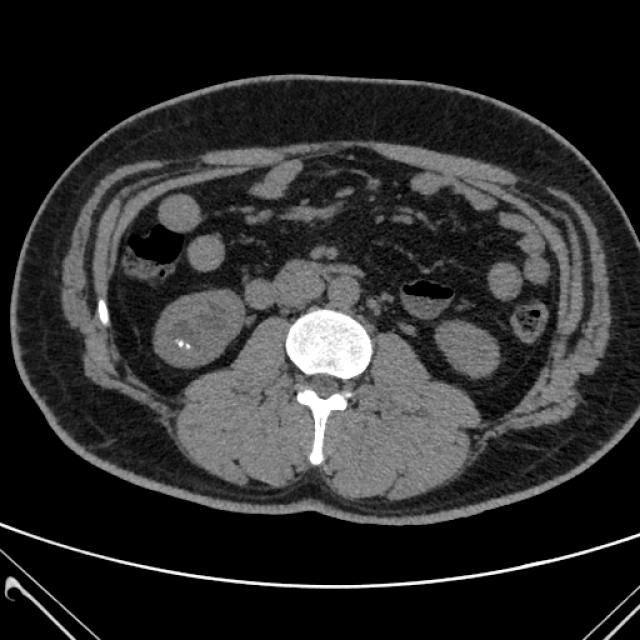kidney: (152, 286, 248, 371), (435, 317, 506, 384)
stone: (176, 338, 192, 351)
